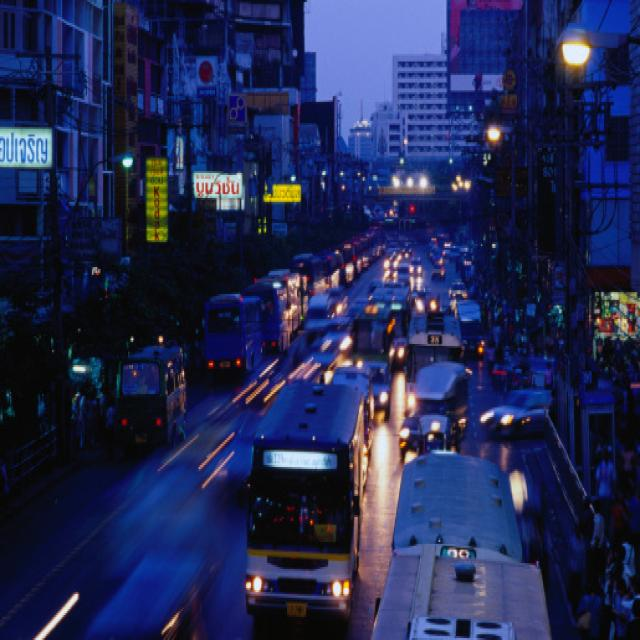Bus: (229, 361, 365, 640), (375, 441, 529, 585), (365, 534, 553, 640), (99, 337, 193, 447), (195, 271, 264, 380), (348, 254, 410, 375), (413, 353, 479, 431), (263, 257, 308, 339), (251, 271, 291, 359), (451, 293, 492, 361), (404, 324, 463, 371), (301, 247, 333, 304), (327, 242, 349, 288)
People: (589, 478, 606, 587), (567, 515, 586, 600), (614, 559, 633, 634)
car: (482, 386, 560, 449)
